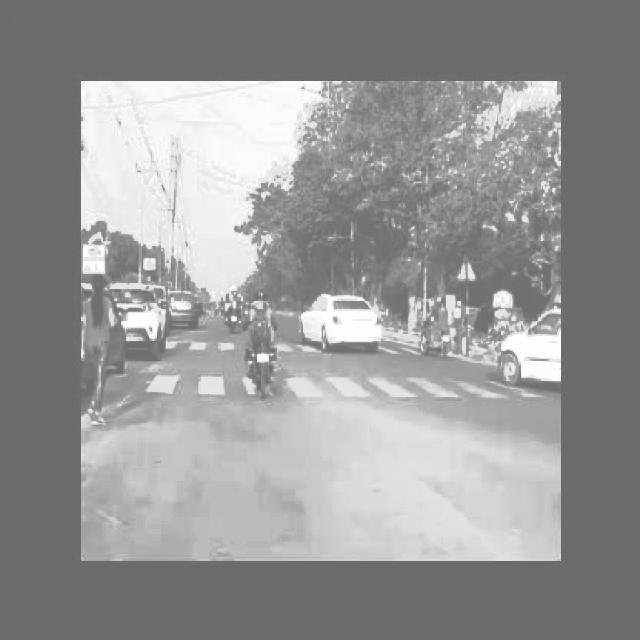Car: (489, 294, 563, 401), (300, 285, 383, 366), (117, 276, 164, 364), (172, 284, 205, 336)
